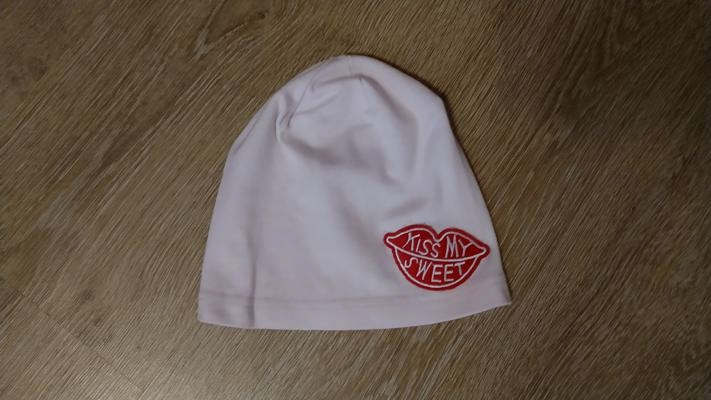Hat: (177, 43, 537, 336)
